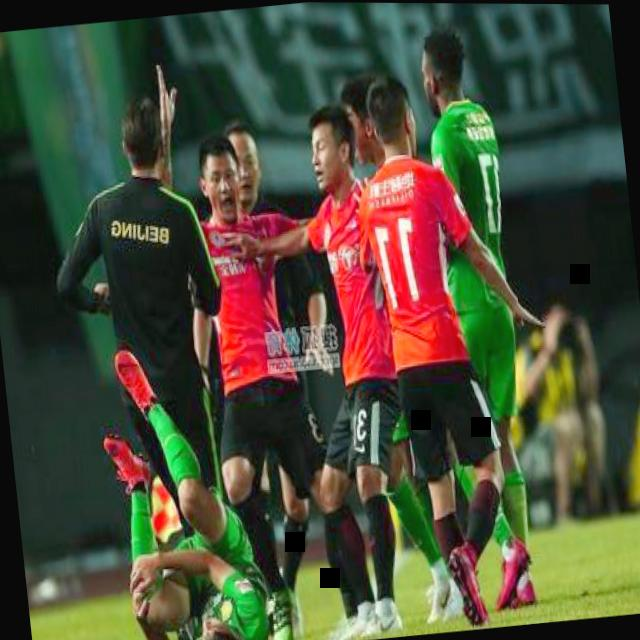Fall-Detected: (82, 337, 284, 640)
